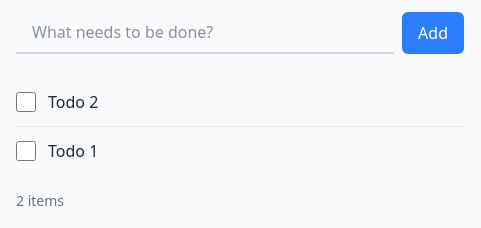
Test: TodoList › clears completed todos
The width and height of the screenshot is (481, 228).
Click the checkbox next to "Todo 1": point(26, 151) [16, 141, 36, 161]
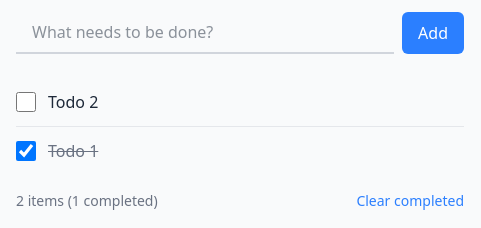
// Click clear completed button
Click the button with test id "clear-completed-button": point(410, 201) [356, 191, 464, 211]
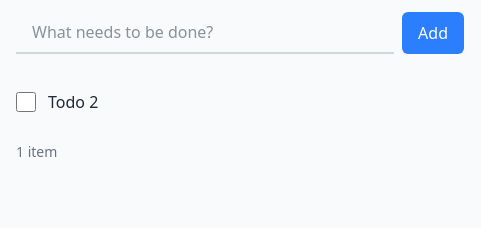
Now the text with test id "todos-count" reads "1 item", box [16, 142, 57, 162]
Now the button with test id "clear-completed-button" is gone
